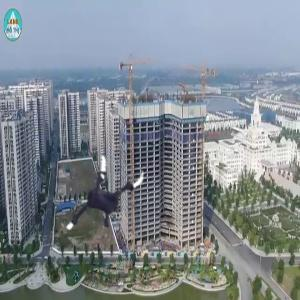drone: (51, 142, 152, 243)
